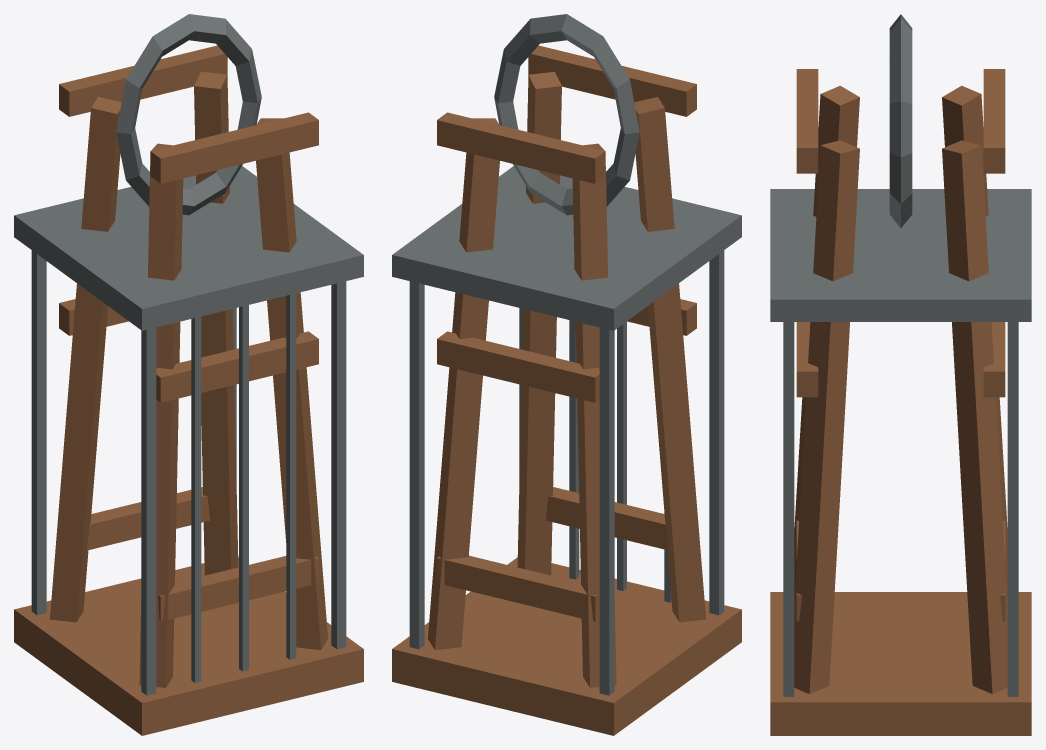
The model's file is board_elevador.glb.
3 renders of one model, left to right at view 1: azimuth 30°, elevation 25°; view 2: azimuth 150°, elevation 25°; view 3: azimuth 270°, elevation 25°, orthographic. The views are drawn at different scales.
Parts seen in each view (by area): view 1: board_elevador; view 2: board_elevador; view 3: board_elevador.
Part boxes in pixels (x1,y1,x2,y2): board_elevador: [14, 14, 363, 735]; board_elevador: [392, 14, 741, 735]; board_elevador: [770, 14, 1031, 735].
Size of the model in its own units: 5 by 14 by 5.
